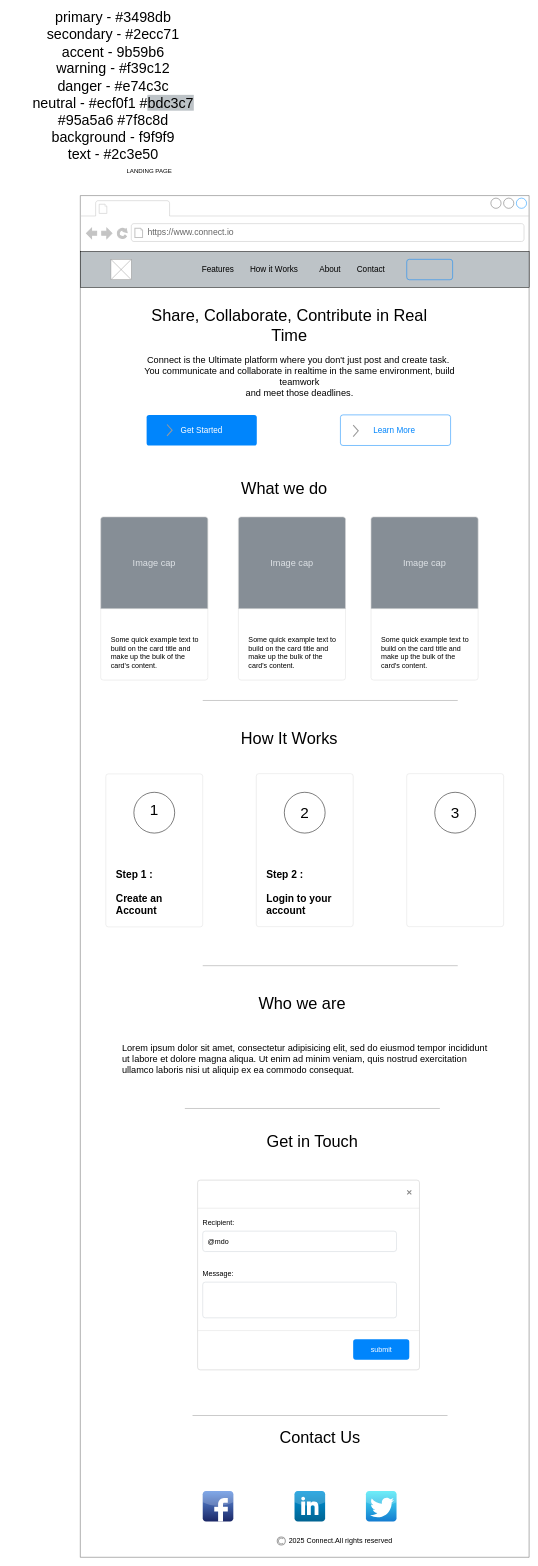
Some shapes in this 538 by 1566 pixel diagram are drawn without their labels. The shapes that lost their labels are listed below. From the top down, each one's box as (x1, y1, x2, y2) in pixels, then its label:
(110, 201, 167, 215): connect
(110, 259, 131, 280): logo
(406, 259, 453, 280): Login
(406, 773, 504, 927): Step 3 : Connect and Collaborate
(197, 1180, 419, 1370): New message to @mdo
